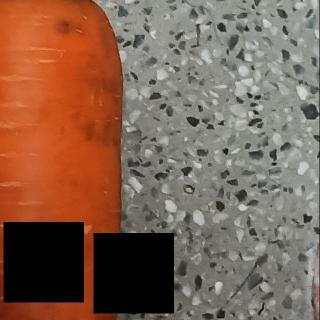carrot: (0, 0, 128, 320)
